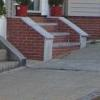stairs: (3, 14, 88, 63)
